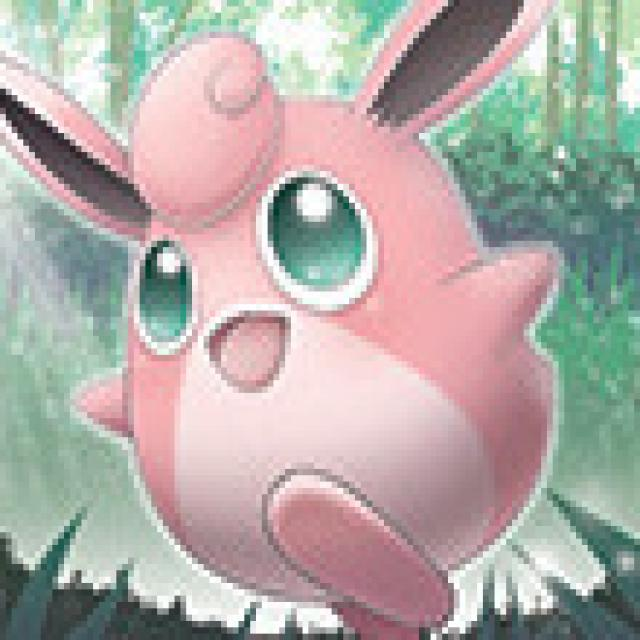Wigglytuff: (83, 28, 561, 640)
